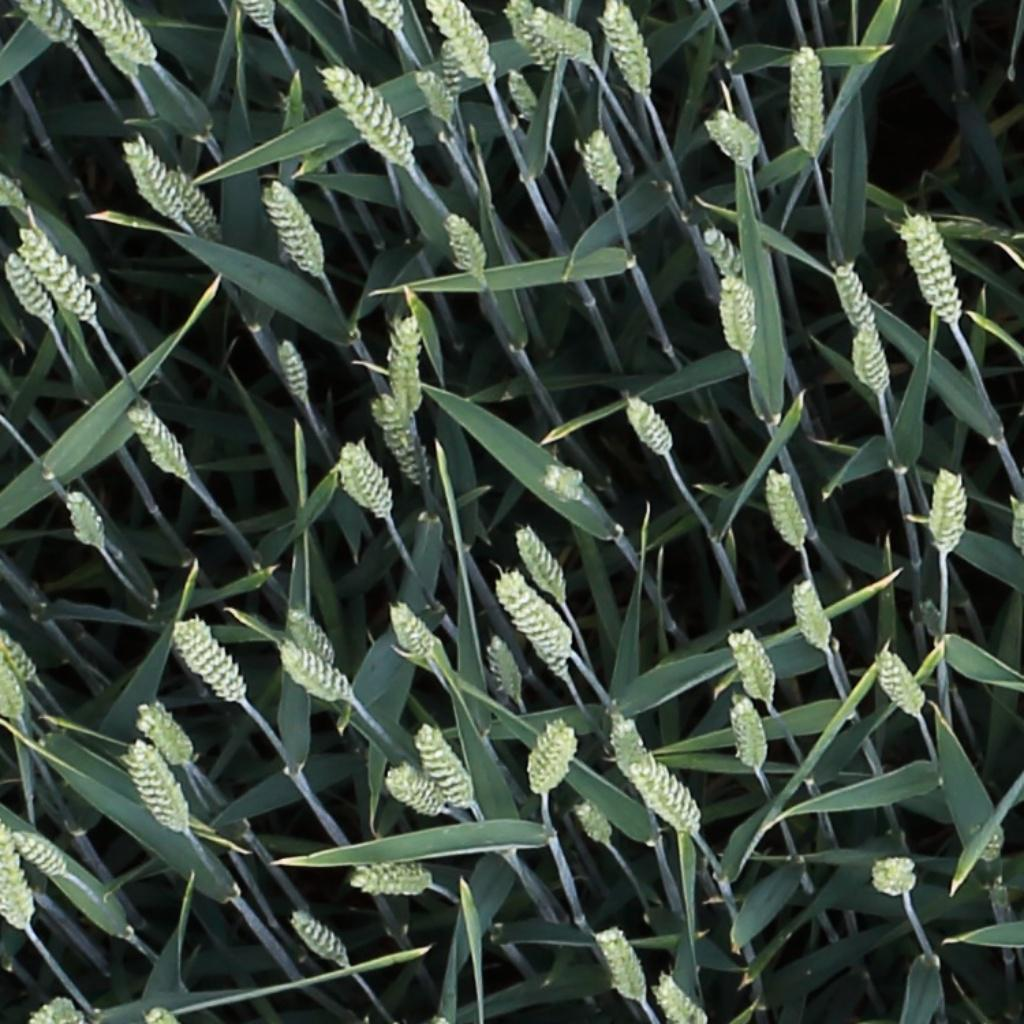0-0: (322, 61, 416, 166), (22, 228, 108, 330), (498, 572, 574, 678), (172, 615, 249, 707), (903, 211, 963, 326), (264, 173, 327, 278), (631, 751, 707, 838), (129, 738, 191, 838), (122, 133, 189, 223), (430, 0, 498, 86), (70, 0, 160, 63), (162, 155, 225, 244), (374, 390, 430, 490), (417, 722, 477, 815), (125, 402, 193, 484), (514, 521, 573, 608), (604, 0, 655, 96), (596, 921, 651, 1008), (876, 643, 932, 724), (341, 438, 394, 522), (926, 462, 975, 552), (2, 245, 55, 327), (832, 252, 880, 341), (507, 0, 562, 75), (622, 389, 679, 461), (729, 626, 779, 708), (136, 701, 195, 770), (0, 817, 35, 932), (385, 309, 423, 414), (767, 464, 811, 554), (281, 648, 353, 703), (721, 692, 770, 772), (381, 756, 446, 816), (532, 2, 601, 58), (786, 45, 821, 155), (289, 909, 353, 969), (443, 206, 491, 285), (713, 270, 756, 357), (849, 315, 894, 398), (386, 596, 439, 666), (283, 604, 339, 670), (528, 718, 573, 800), (350, 852, 435, 894), (793, 574, 836, 656), (700, 221, 752, 286), (486, 630, 528, 707), (61, 484, 107, 552), (584, 122, 625, 196), (20, 0, 80, 49), (8, 832, 69, 880), (611, 707, 647, 787), (410, 64, 457, 124), (655, 969, 705, 1024), (503, 60, 546, 122), (275, 335, 312, 406), (573, 798, 618, 854), (89, 33, 143, 79), (707, 115, 754, 166), (4, 628, 44, 684), (0, 635, 23, 731), (354, 0, 406, 31), (440, 32, 465, 96), (543, 465, 585, 503), (875, 861, 918, 894), (243, 0, 279, 35), (35, 1000, 77, 1024)
